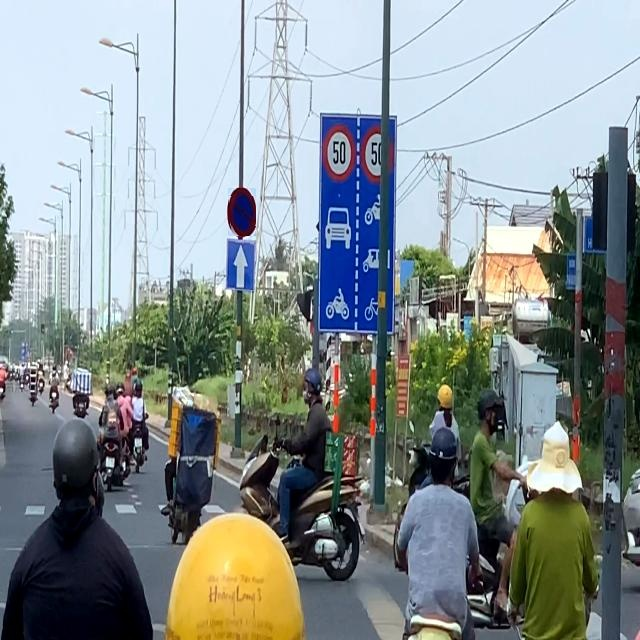bien_cam: (227, 240, 254, 290), (228, 188, 256, 236)
